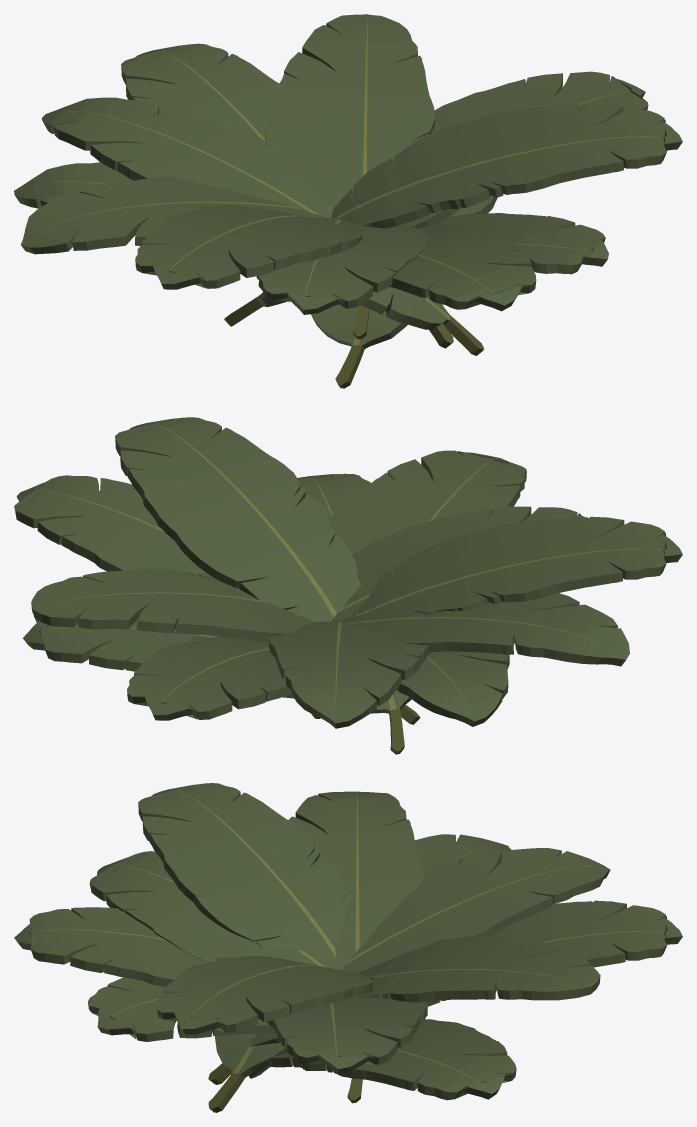
The model's file is leaf.fbx.
3 views of the same model, one above another, from view 1: azimuth 30°, elevation 25°; view 2: azimuth 150°, elevation 25°; view 3: azimuth 270°, elevation 25° (orthographic). The views are drawn at different scales.
Visible parts, largest first — view 1: Plane.011, Plane.009, Plane.008, Plane.004, Plane, Plane.002, Plane.003, Plane.010, Plane.001, Plane.005, Plane.007, Plane.006; view 2: Plane.011, Plane.004, Plane.009, Plane, Plane.003, Plane.008, Plane.001, Plane.002, Plane.007, Plane.010, Plane.006, Plane.005; view 3: Plane.004, Plane.008, Plane, Plane.009, Plane.011, Plane.003, Plane.010, Plane.006, Plane.001, Plane.002, Plane.005, Plane.007.
Part boxes in pixels (left/top/right/bottom): Plane.011: left=331, top=103, right=682, bottom=228; Plane.009: left=265, top=14, right=435, bottom=339; Plane.008: left=41, top=97, right=453, bottom=348; Plane.004: left=135, top=204, right=362, bottom=289; Plane: left=21, top=176, right=326, bottom=254; Plane.002: left=121, top=43, right=279, bottom=140; Plane.003: left=390, top=224, right=536, bottom=311; Plane.010: left=256, top=217, right=428, bottom=314; Plane.001: left=400, top=71, right=648, bottom=228; Plane.005: left=224, top=213, right=608, bottom=326; Plane.007: left=14, top=162, right=484, bottom=355; Plane.006: left=311, top=196, right=497, bottom=388; Plane.011: left=115, top=417, right=361, bottom=621; Plane.004: left=352, top=516, right=682, bottom=616; Plane.009: left=31, top=568, right=313, bottom=641; Plane: left=336, top=593, right=629, bottom=666; Plane.003: left=311, top=450, right=526, bottom=718; Plane.008: left=269, top=621, right=432, bottom=728; Plane.001: left=14, top=475, right=206, bottom=574; Plane.002: left=127, top=636, right=292, bottom=720; Plane.007: left=396, top=651, right=509, bottom=726; Plane.010: left=331, top=506, right=584, bottom=621; Plane.006: left=23, top=618, right=420, bottom=724; Plane.005: left=297, top=473, right=411, bottom=754; Plane.004: left=138, top=783, right=352, bottom=958; Plane.008: left=208, top=848, right=610, bottom=1084; Plane: left=288, top=791, right=424, bottom=1103; Plane.009: left=358, top=936, right=600, bottom=1002; Plane.011: left=157, top=956, right=374, bottom=1034; Plane.003: left=14, top=907, right=206, bottom=987; Plane.010: left=89, top=851, right=342, bottom=970; Plane.006: left=248, top=1019, right=516, bottom=1100; Plane.001: left=267, top=995, right=427, bottom=1074; Plane.002: left=426, top=900, right=682, bottom=1006; Plane.005: left=88, top=977, right=275, bottom=1041; Plane.007: left=208, top=834, right=511, bottom=1112.
Bounding box in the file's own units: 609 × 197 × 600.
